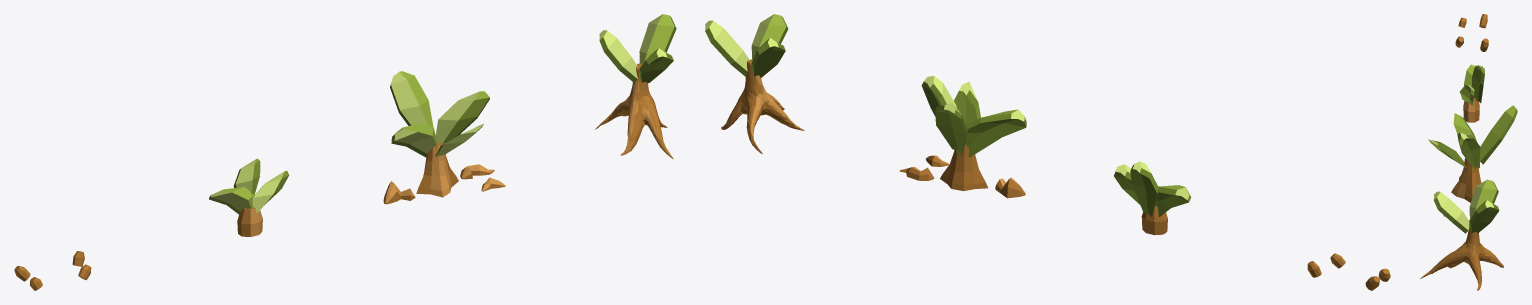
3 renders of one model, left to right at view 1: azimuth 30°, elevation 25°; view 2: azimuth 150°, elevation 25°; view 3: azimuth 270°, elevation 25°, orthographic. The views are drawn at different scales.
Parts seen in each view (by area): view 1: N_3, N_4, N_2, N_1; view 2: N_3, N_4, N_2, N_1; view 3: N_4, N_3, N_2, N_1.
Boxes of the visible parts, <box> form: N_3: <box>383,71,505,204</box>; N_4: <box>595,14,676,159</box>; N_2: <box>209,158,289,236</box>; N_1: <box>14,251,91,290</box>; N_3: <box>899,76,1026,198</box>; N_4: <box>705,14,804,153</box>; N_2: <box>1114,161,1191,235</box>; N_1: <box>1307,253,1390,290</box>; N_4: <box>1420,179,1503,290</box>; N_3: <box>1428,105,1517,216</box>; N_2: <box>1460,64,1484,122</box>; N_1: <box>1455,14,1488,51</box>.
Bounding box in the file's own units: 348 × 55.07 × 53.74.
